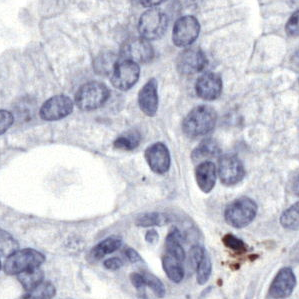Lymphocyte: (219, 229, 254, 257)
